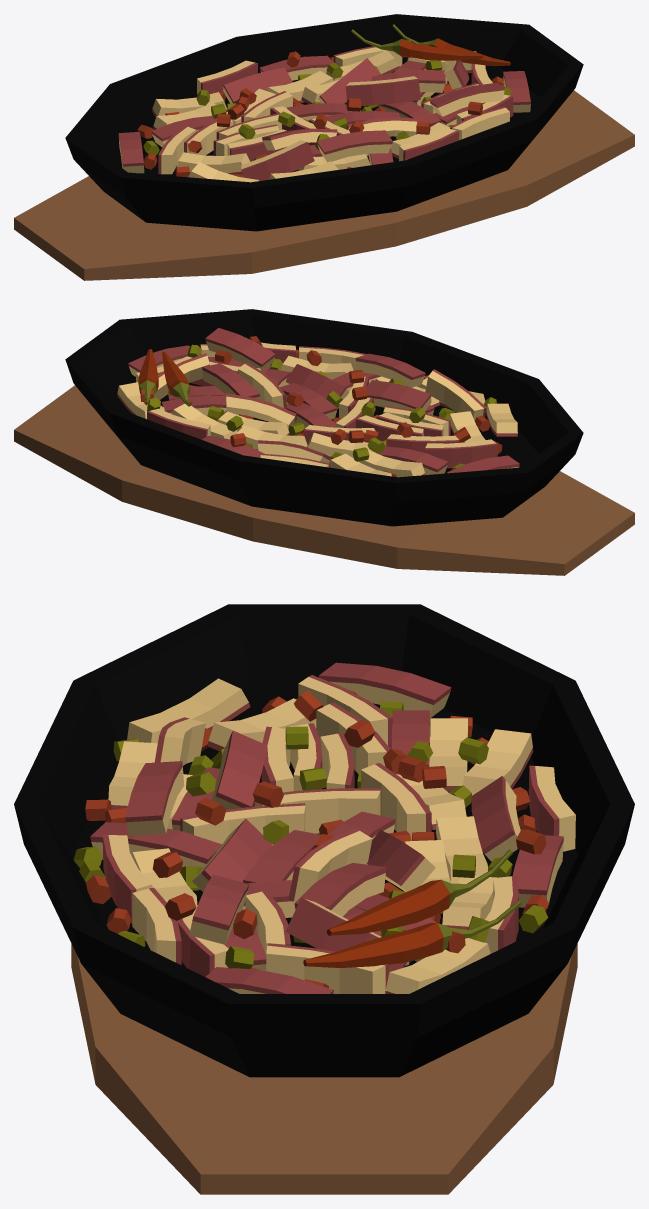
Rendered from FINAL_Squid Sisig.fbx.
3 renders of one model, top to bottom at view 1: azimuth 30°, elevation 25°; view 2: azimuth 150°, elevation 25°; view 3: azimuth 270°, elevation 25°, orthographic. The views are drawn at different scales.
Parts seen in each view (by area): view 1: Squid Sisig; view 2: Squid Sisig; view 3: Squid Sisig.
Part boxes in pixels (box(x1,y1,x2,y2)): Squid Sisig: box(14, 14, 634, 280); Squid Sisig: box(14, 309, 634, 575); Squid Sisig: box(14, 604, 634, 1194).
Bounding box in the file's own units: 161 × 29.72 × 88.92.
